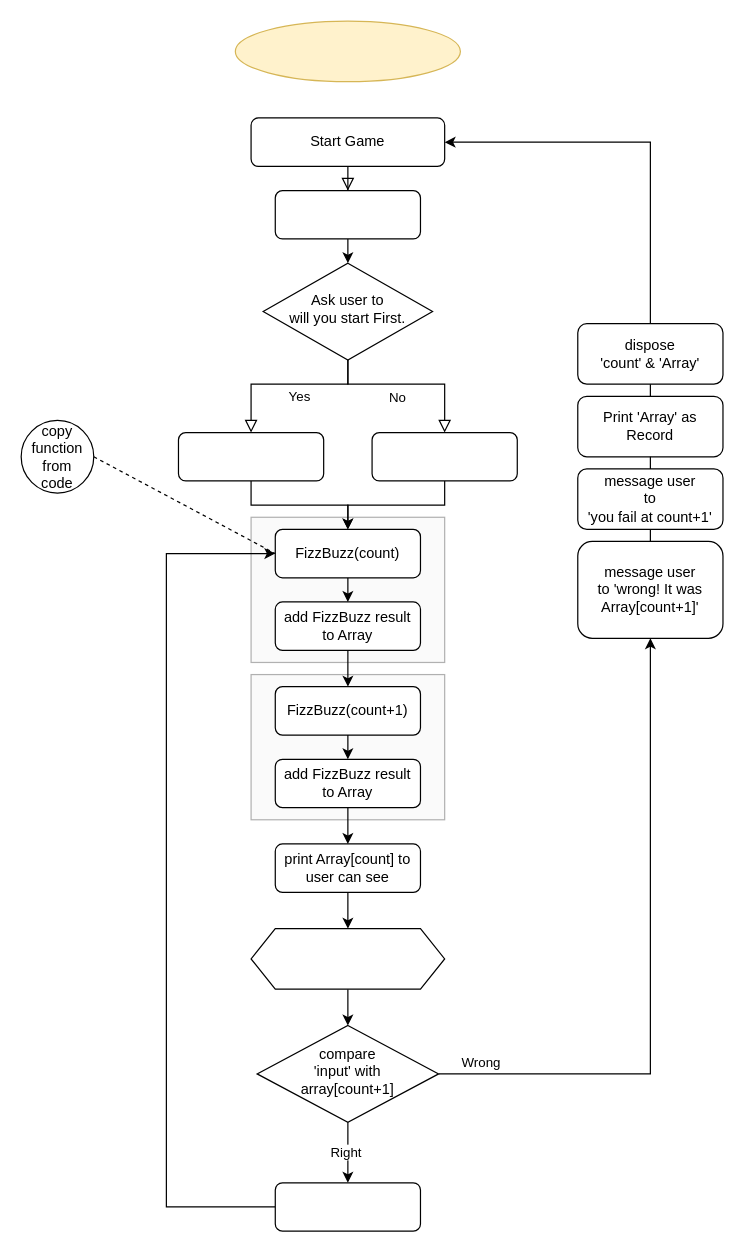
The diagram is 744 pixels wide and 1252 high, and some of its shapes have lost their labels. Here are the shapes that lost their labels. From the top down, the centre of each, then its label:
pixel 347 51: easy FizzBuzzGame
pixel 347 214: make new 'count' & 'Array'
pixel 250 456: start 'count': 2
pixel 444 456: start 'count': 1
pixel 347 958: ask user to prompt number 'input'
pixel 347 1206: Increase count by 2 (count+2)
